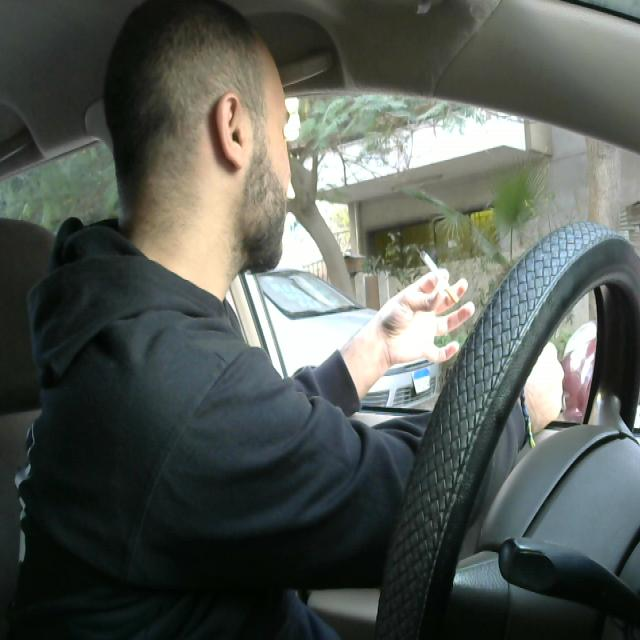smoking: (415, 248, 469, 309)
